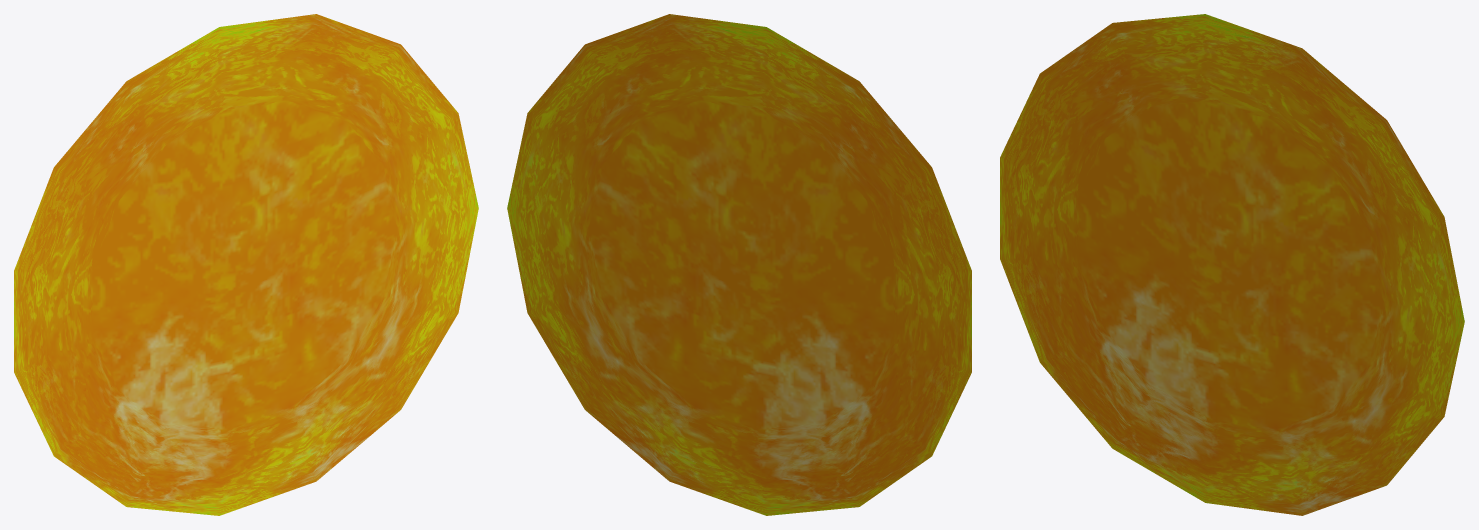
The model's file is Magnet Shield.glb.
3 views of the same model, side by side, from view 1: azimuth 30°, elevation 25°; view 2: azimuth 150°, elevation 25°; view 3: azimuth 330°, elevation 25° (orthographic).
Visible parts, largest first — view 1: Shield; view 2: Shield; view 3: Shield.
Part boxes in pixels (x1,y1,x2,y2): Shield: (14,14,478,515); Shield: (507,14,971,515); Shield: (1000,14,1464,515).
Bounding box in the file's own units: 2.65 × 2.67 × 6.3e-06.
Materials: 1 (1 with a texture image).
